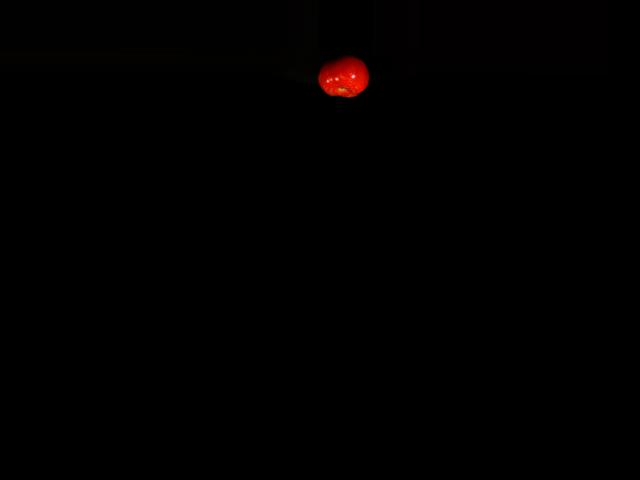tomato: (317, 53, 370, 98)
